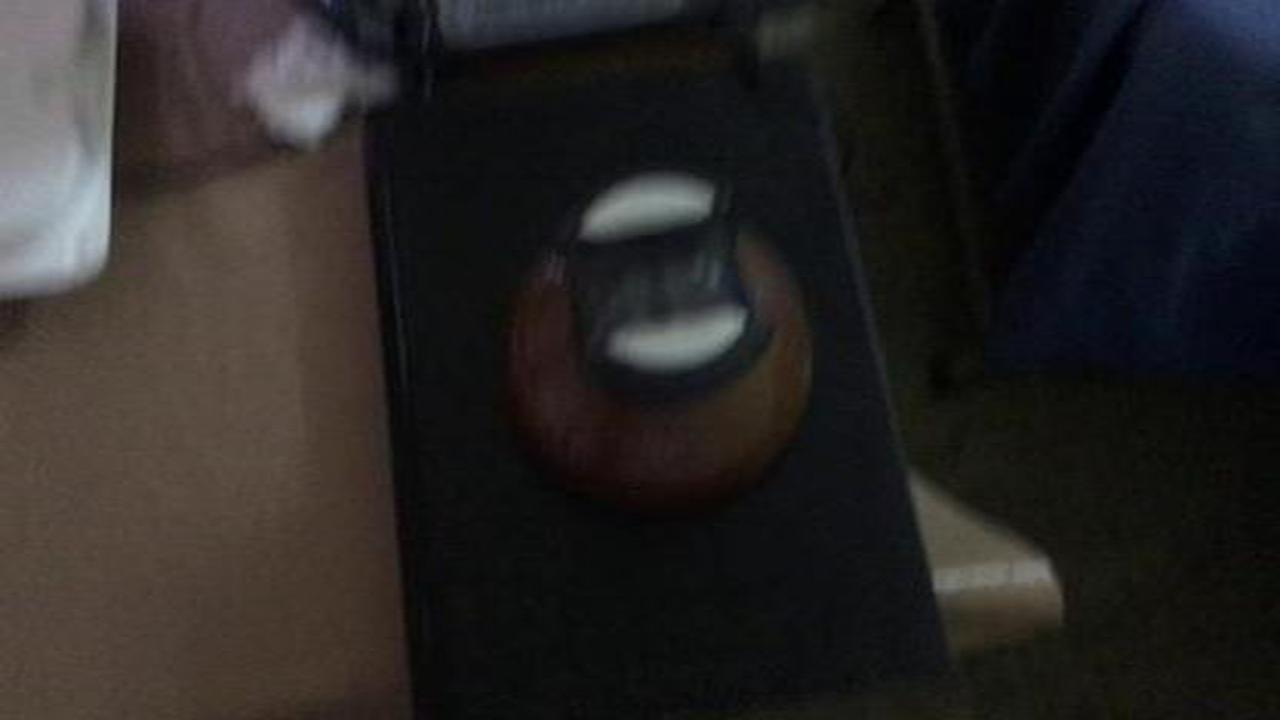insulator_pin: (490, 163, 862, 511)
